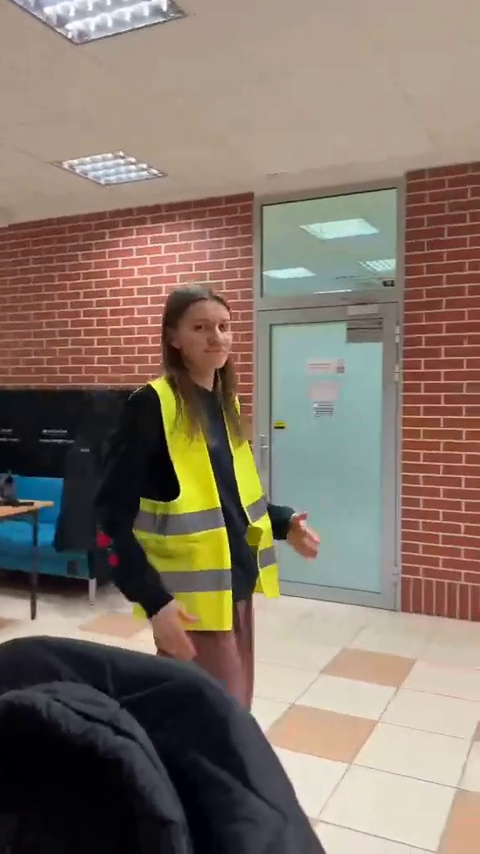vest: (103, 285, 310, 686)
